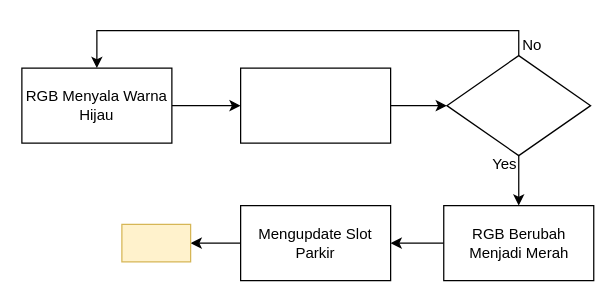
Image size: 616x303. Some labels were removed from this diagram. Here are the shapes that lost their labels. From the top down, the centre of each, then its label:
At (x=315, y=105): "Kendaraan Masuk Ke Area Parkirnya".
At (x=518, y=105): "Infrared Mendeteksi Kendaraan?".
